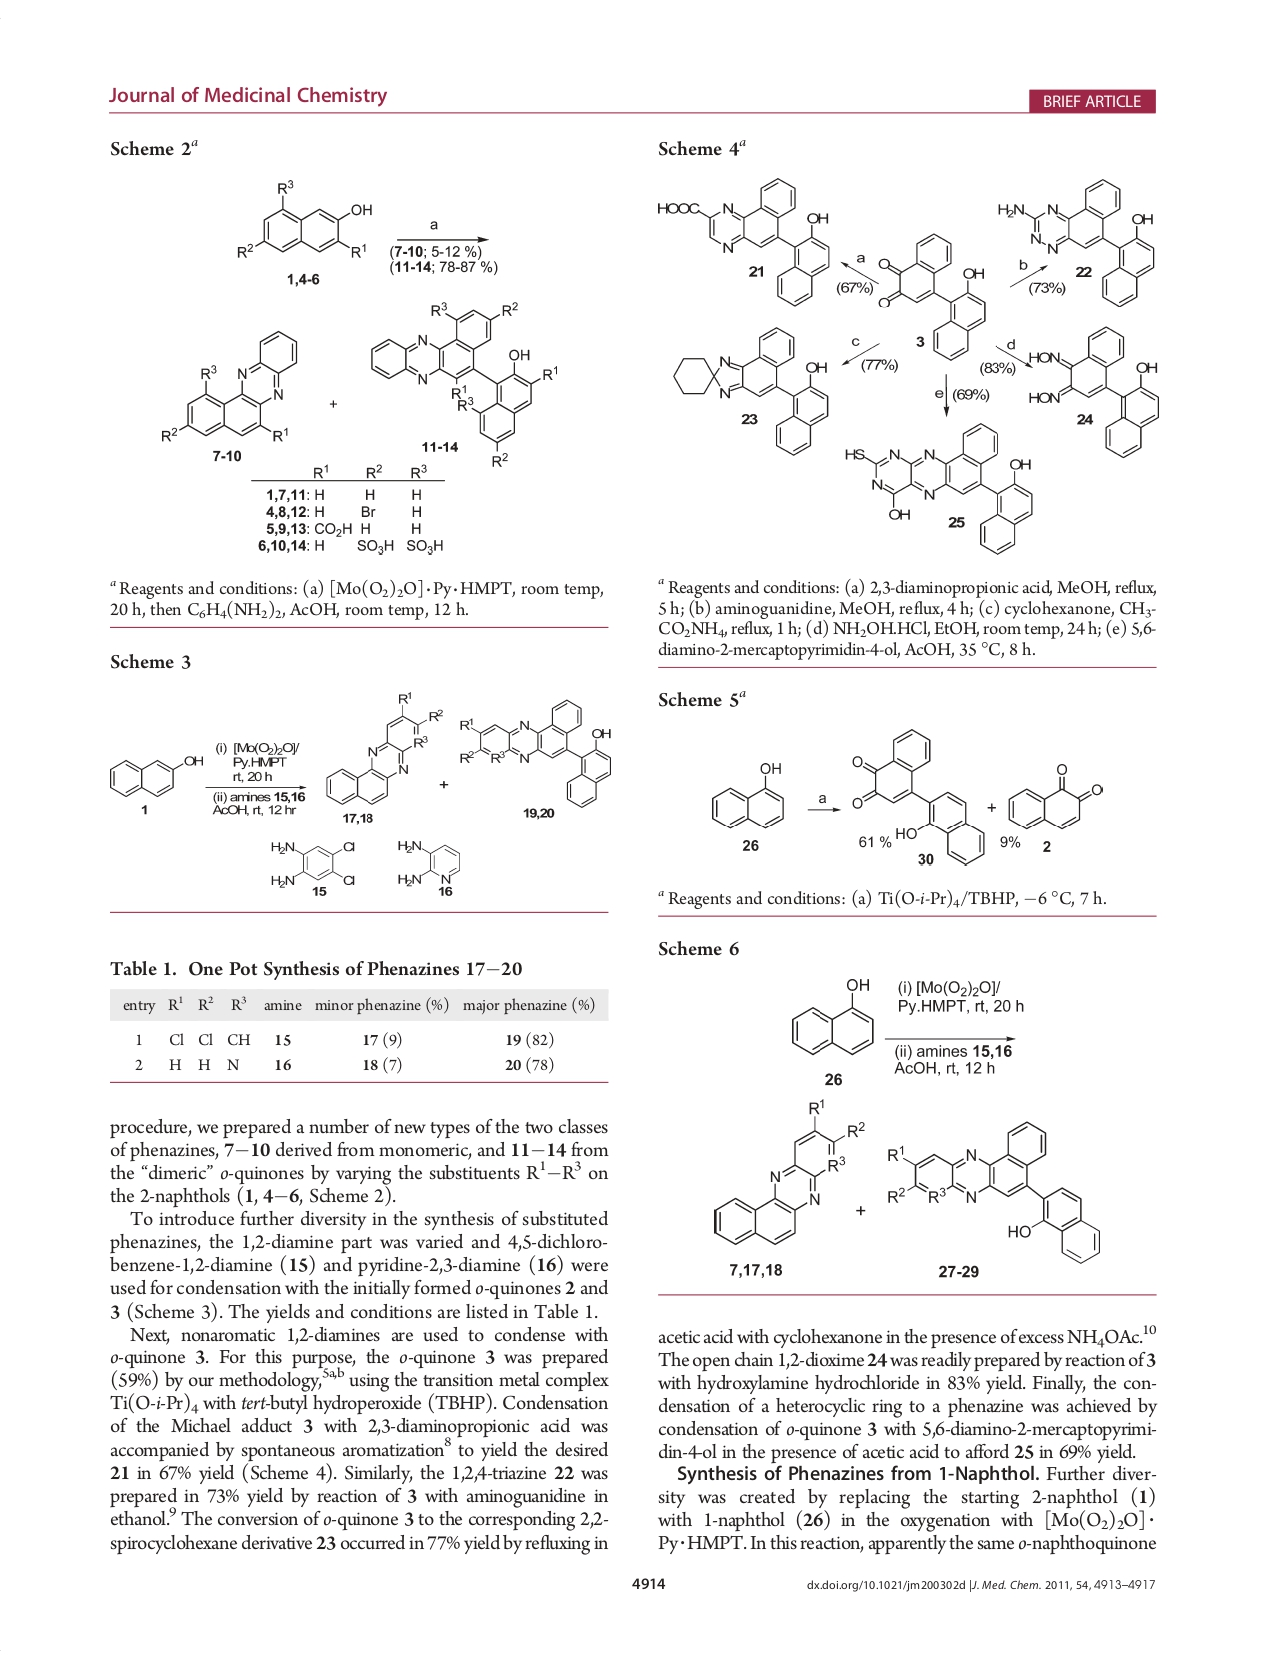exist_molecular: (368, 298, 560, 469), (884, 1117, 1102, 1263), (842, 422, 1035, 556), (656, 176, 832, 313), (711, 1094, 864, 1246), (669, 324, 832, 457), (996, 177, 1158, 310), (848, 725, 988, 868), (1027, 323, 1162, 457), (457, 697, 613, 810), (157, 328, 301, 443), (876, 230, 989, 360), (322, 688, 442, 806), (233, 177, 378, 265), (785, 977, 878, 1056), (1005, 763, 1102, 830), (702, 757, 790, 830), (265, 835, 358, 890), (102, 750, 207, 798), (390, 833, 461, 887)
